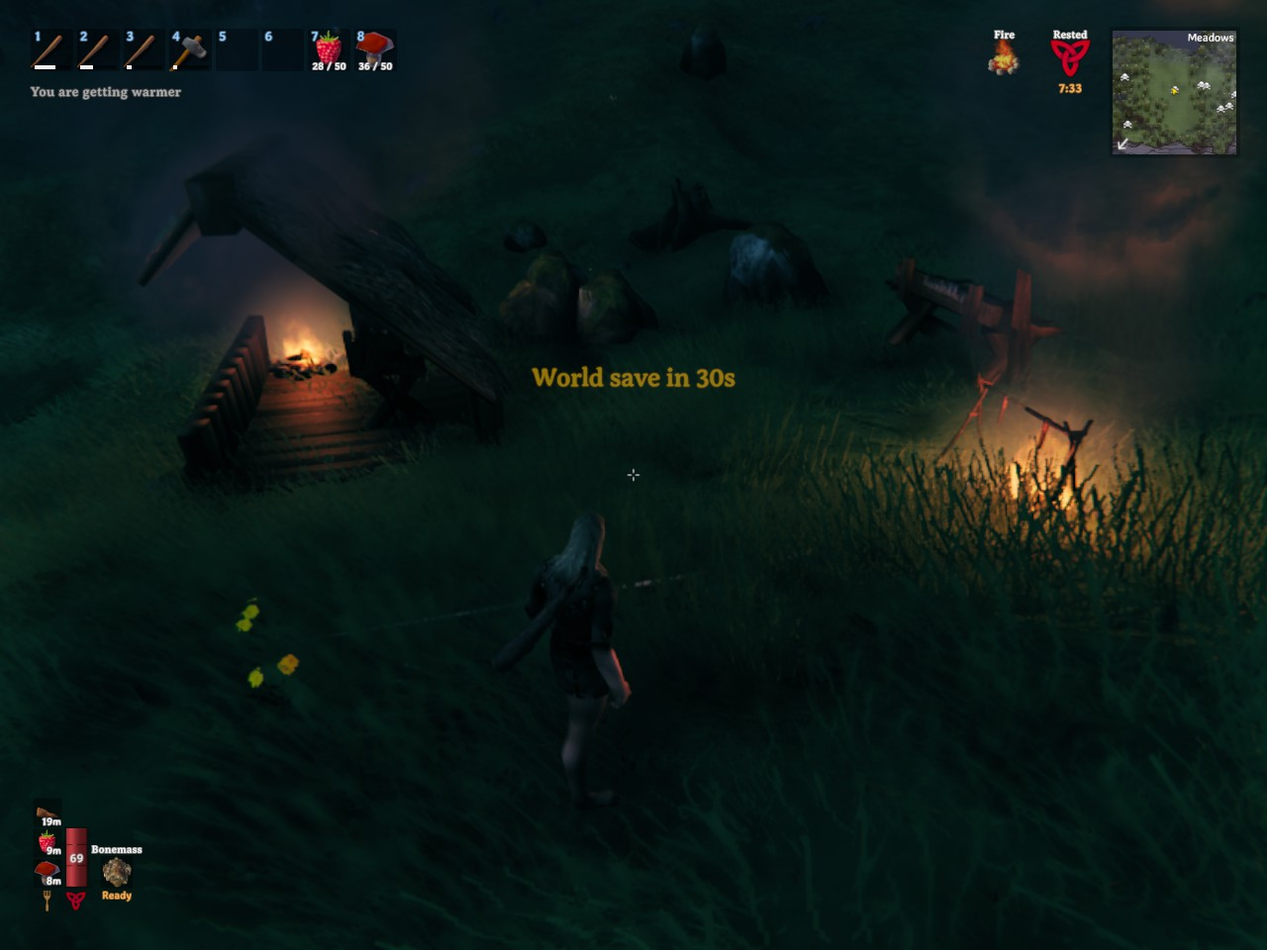House: (122, 137, 518, 473)
